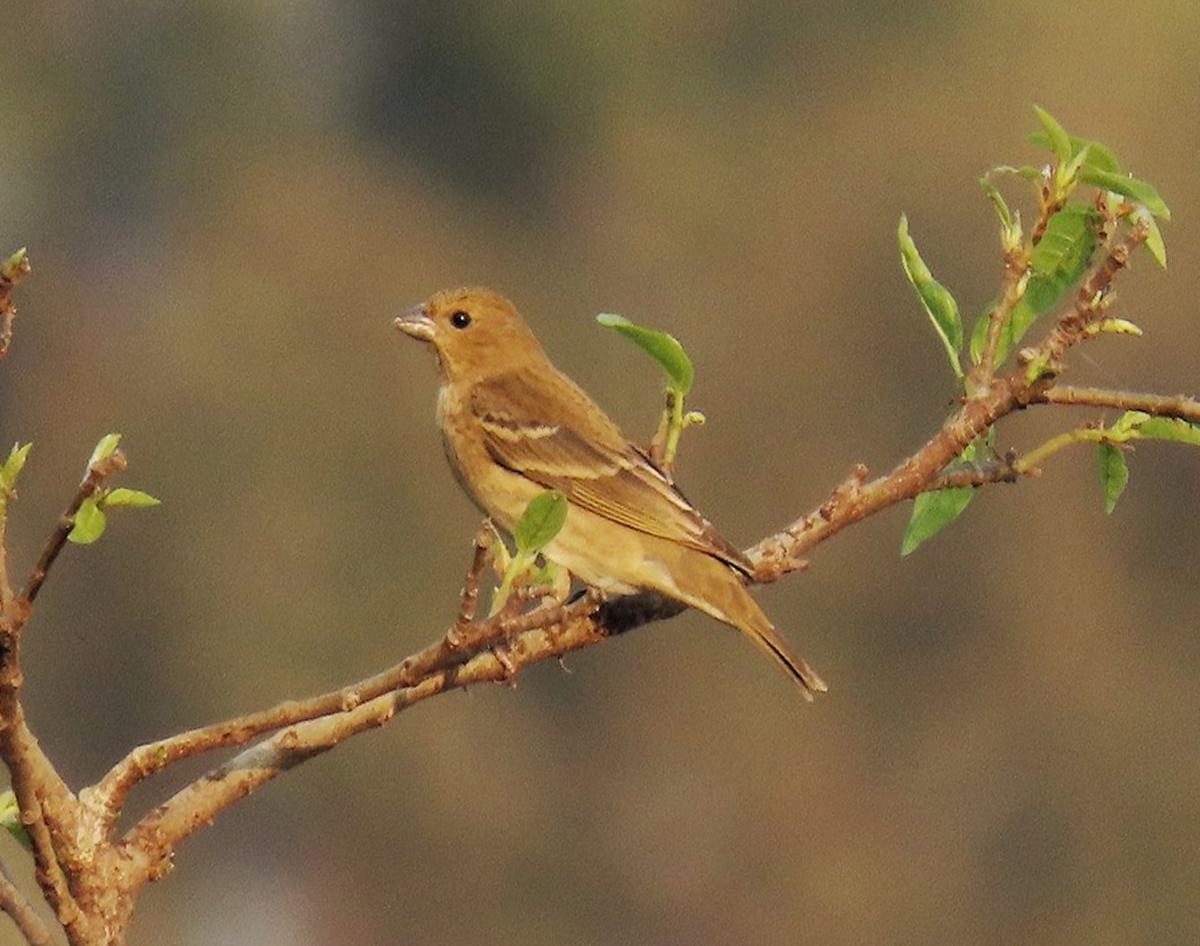rosefinch: (413, 273, 813, 698)
